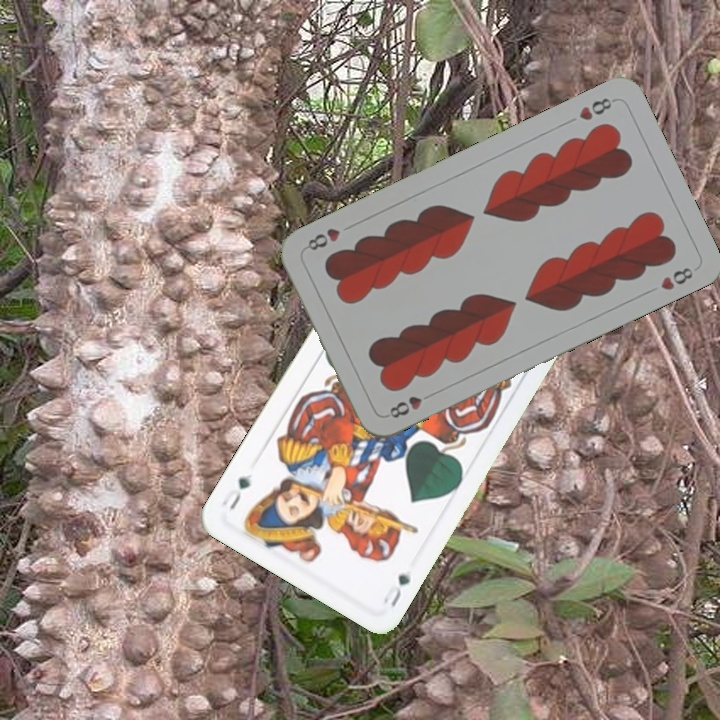GU: (379, 570, 414, 610)
H8: (574, 93, 619, 124), (385, 391, 425, 421)
